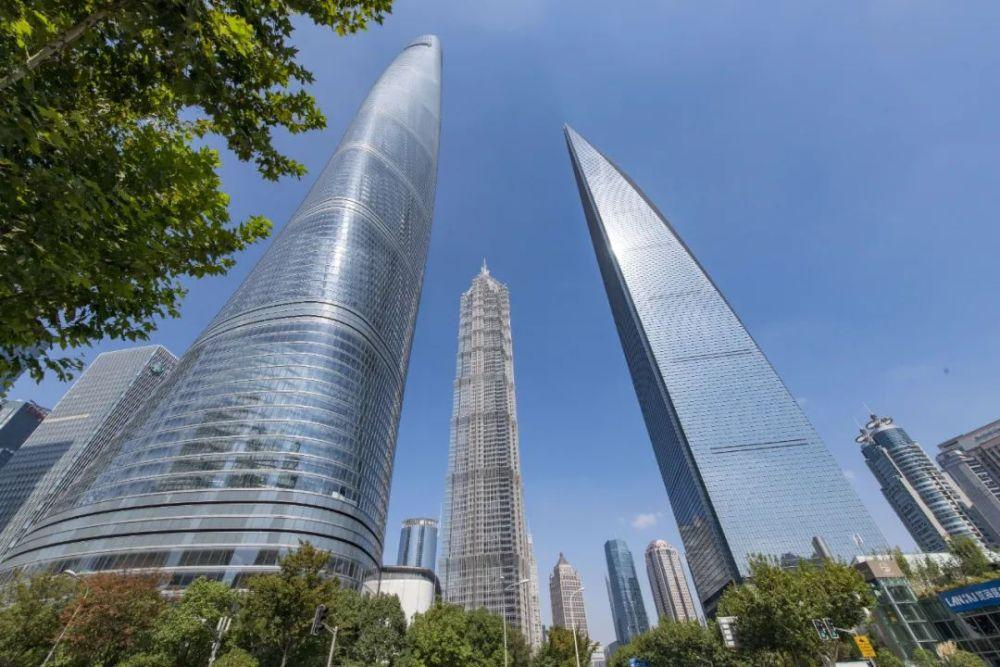buildings: (40, 117, 472, 605), (560, 171, 891, 588), (423, 272, 555, 659)
